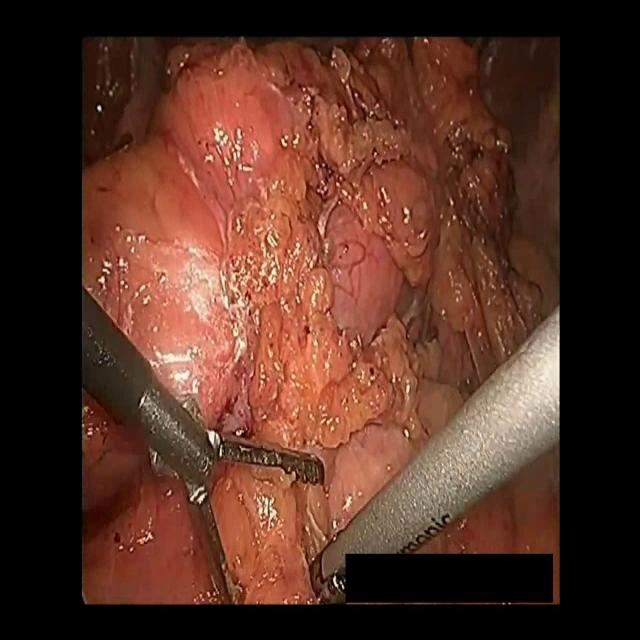surgical-area: (82, 36, 560, 605), (84, 388, 223, 607), (420, 445, 560, 552)
surgical-tool: (82, 283, 324, 605), (308, 304, 560, 604)
